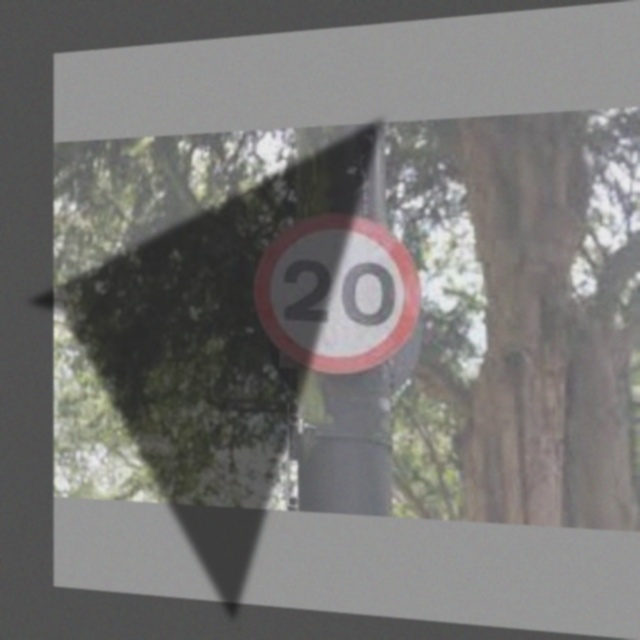Speed_Limit_20: (251, 211, 426, 374)
